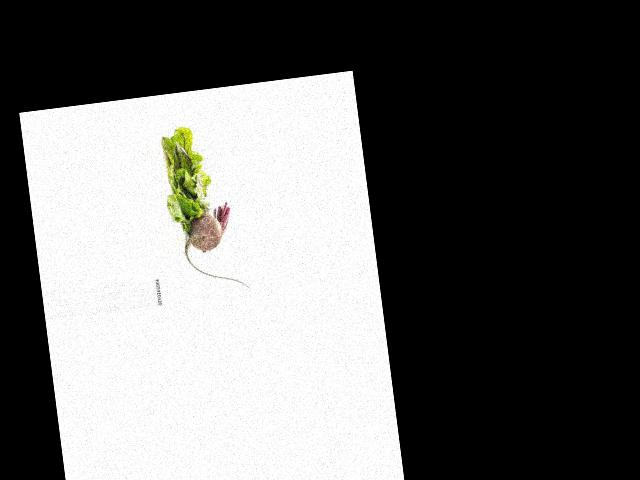beet: (178, 199, 250, 298)
